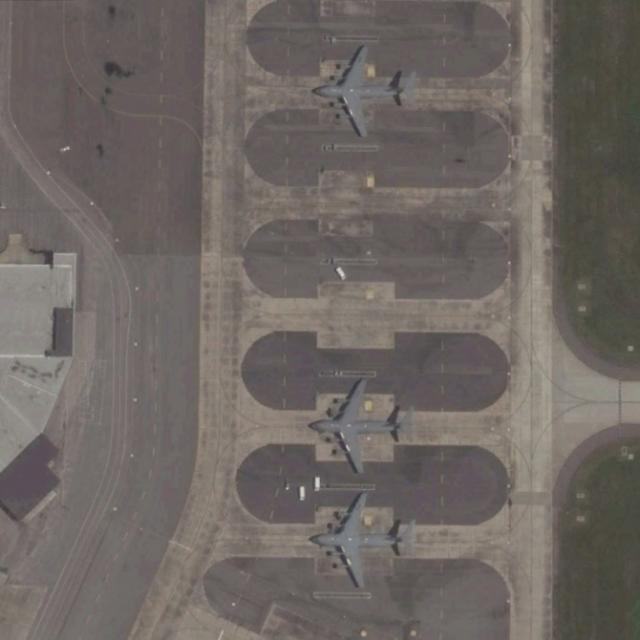fighter jet: (310, 381, 403, 478), (317, 497, 409, 587), (313, 51, 410, 135)
